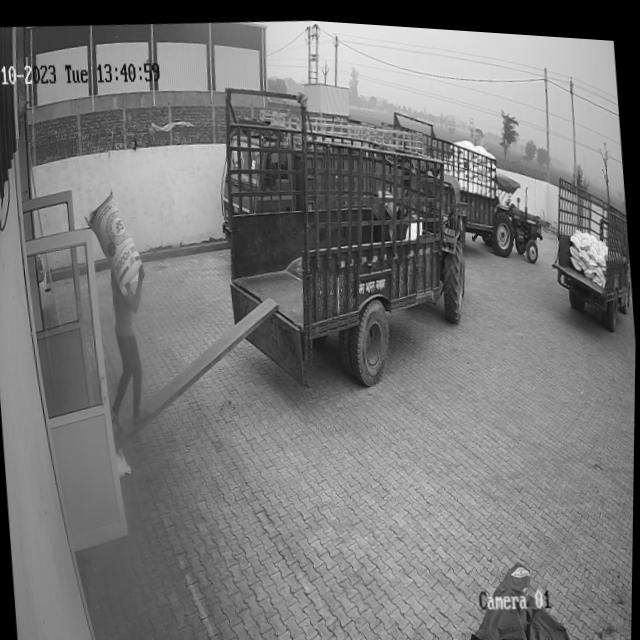sack: (81, 186, 146, 299)
